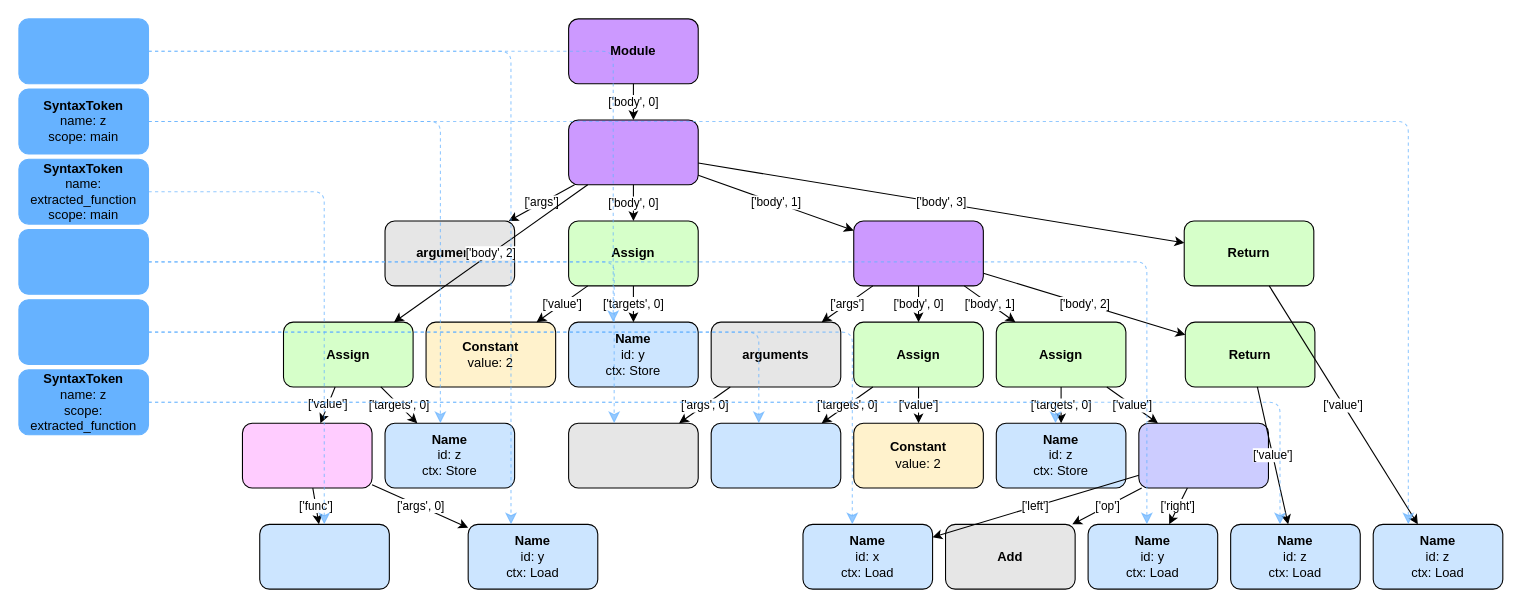
Image size: 1522x608. Some labels were removed from this diagram. The box of each missing label's shape, as (x1, y1, x2, y2) in pixels:
arg arg: y: (568, 422, 698, 488)
BinOp: (1138, 422, 1268, 488)
Call: (241, 422, 372, 488)
FunctionDef name: extracted_function: (853, 220, 983, 286)
FunctionDef name: main: (568, 119, 698, 185)
Name id: extracted_function ctx: Load: (259, 523, 389, 589)
Name id: x ctx: Store: (710, 422, 841, 488)
SyntaxToken name: x scope: extracted_function: (18, 299, 148, 364)
SyntaxToken name: y scope: extracted_function: (18, 228, 148, 294)
SyntaxToken name: y scope: main: (18, 18, 148, 84)
